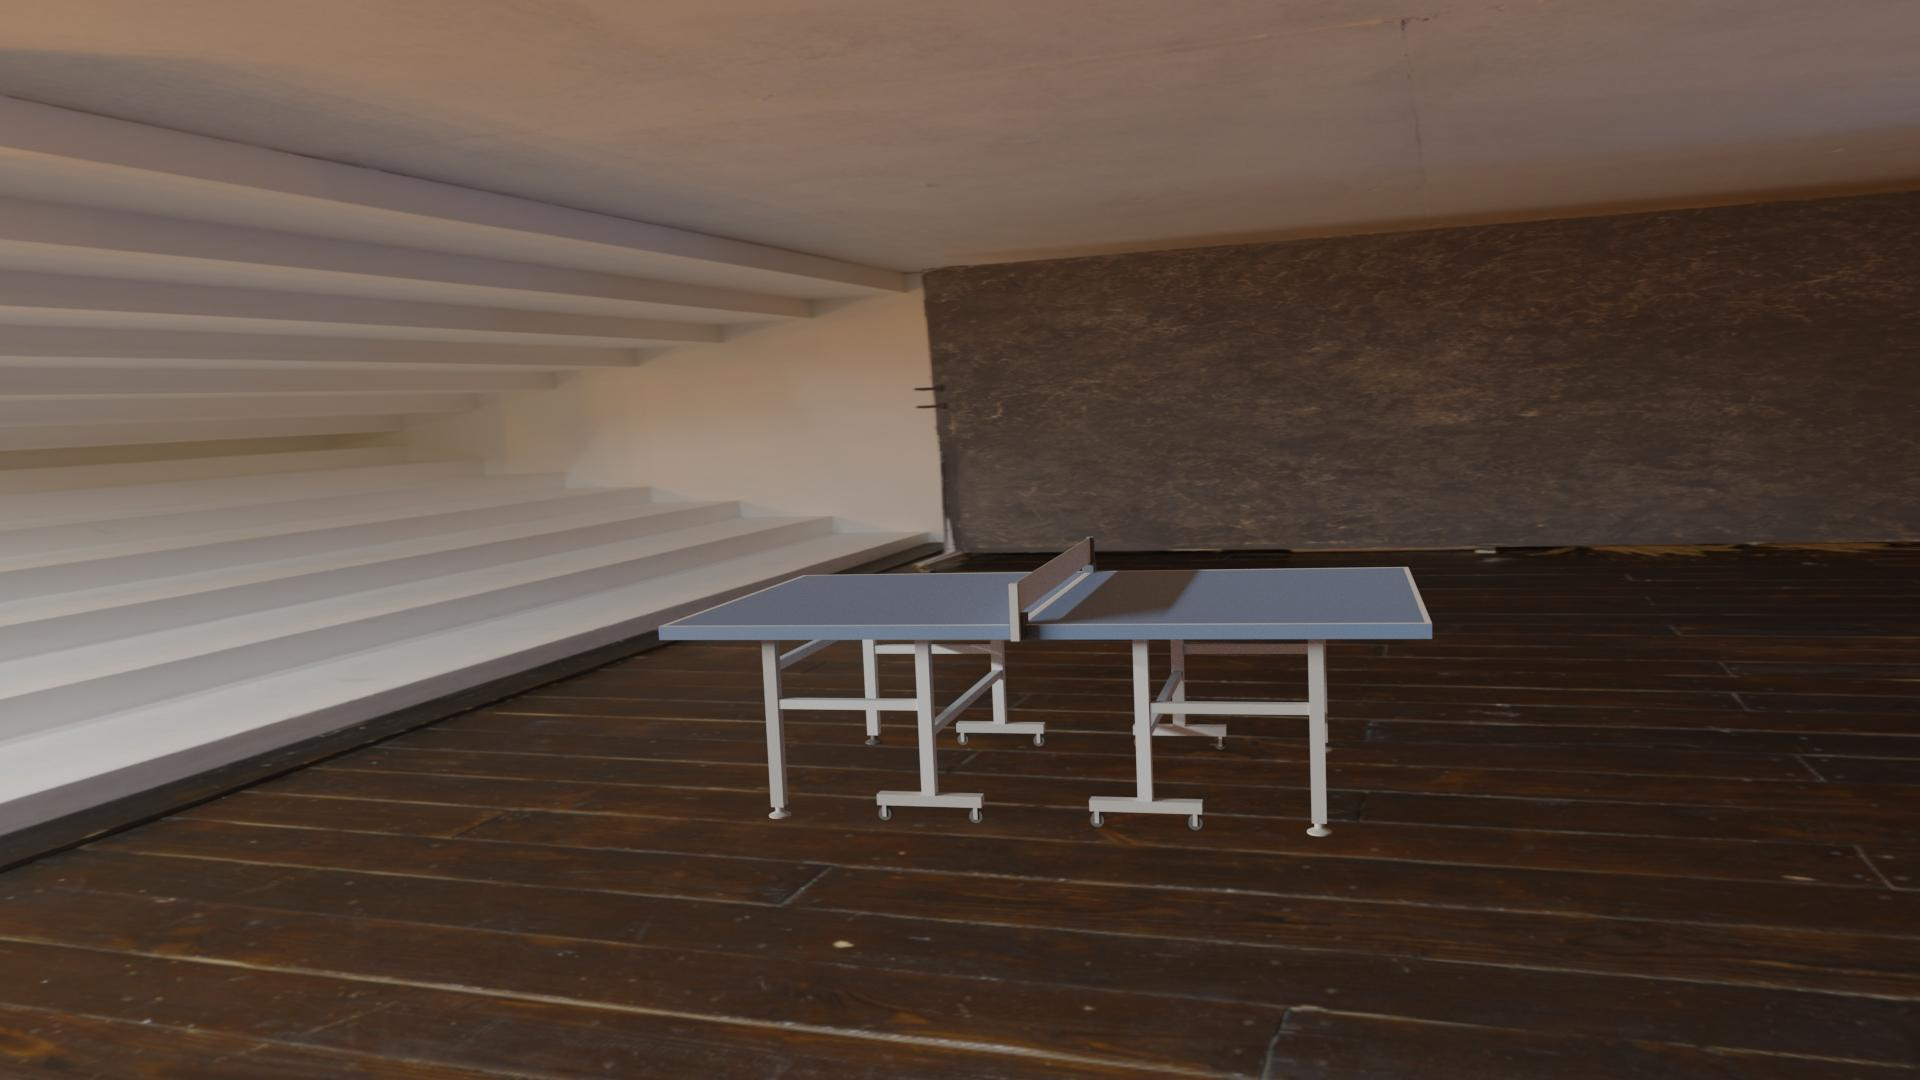table: (666, 567, 1425, 626)
